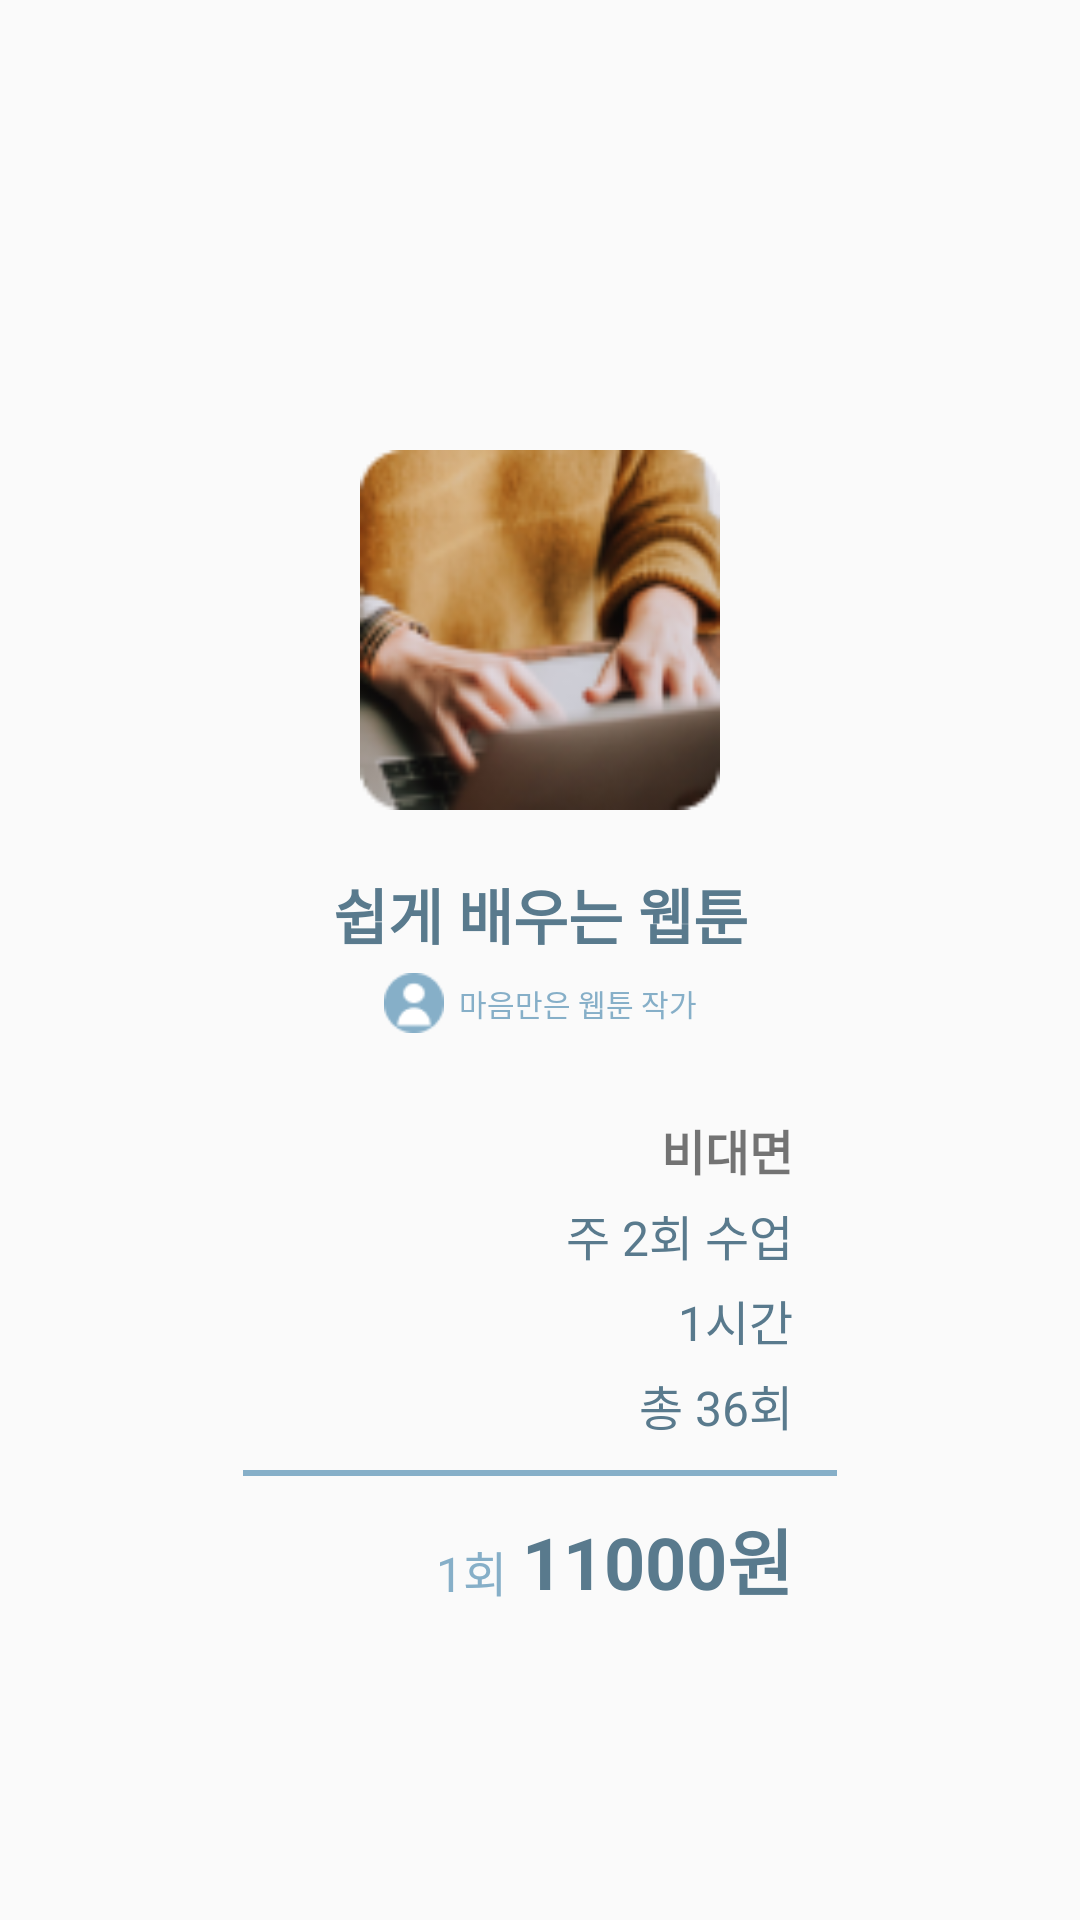

Icons on this 1080px×1920px Android screen, each with the point to tap as [x,y]:
mini class: [540,630]
mini profile: [414,1003]
